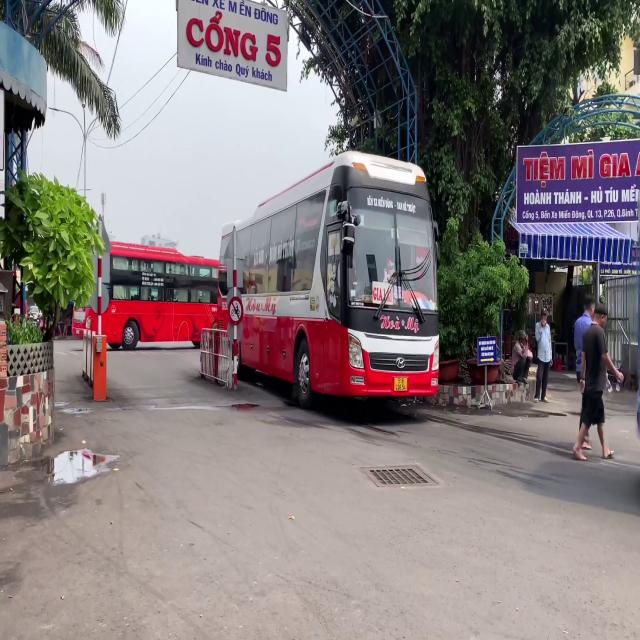bien_vang: (394, 377, 408, 391)
